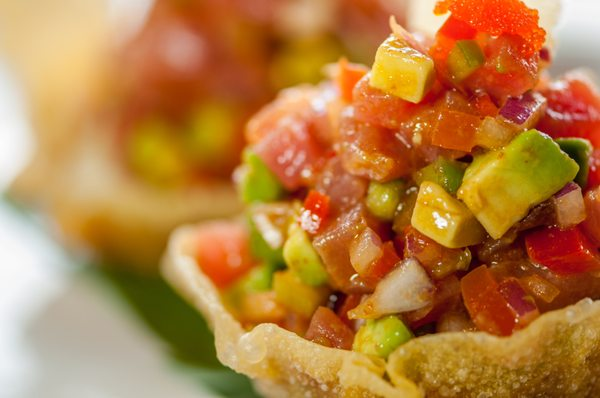pizza: (568, 76, 600, 108)
